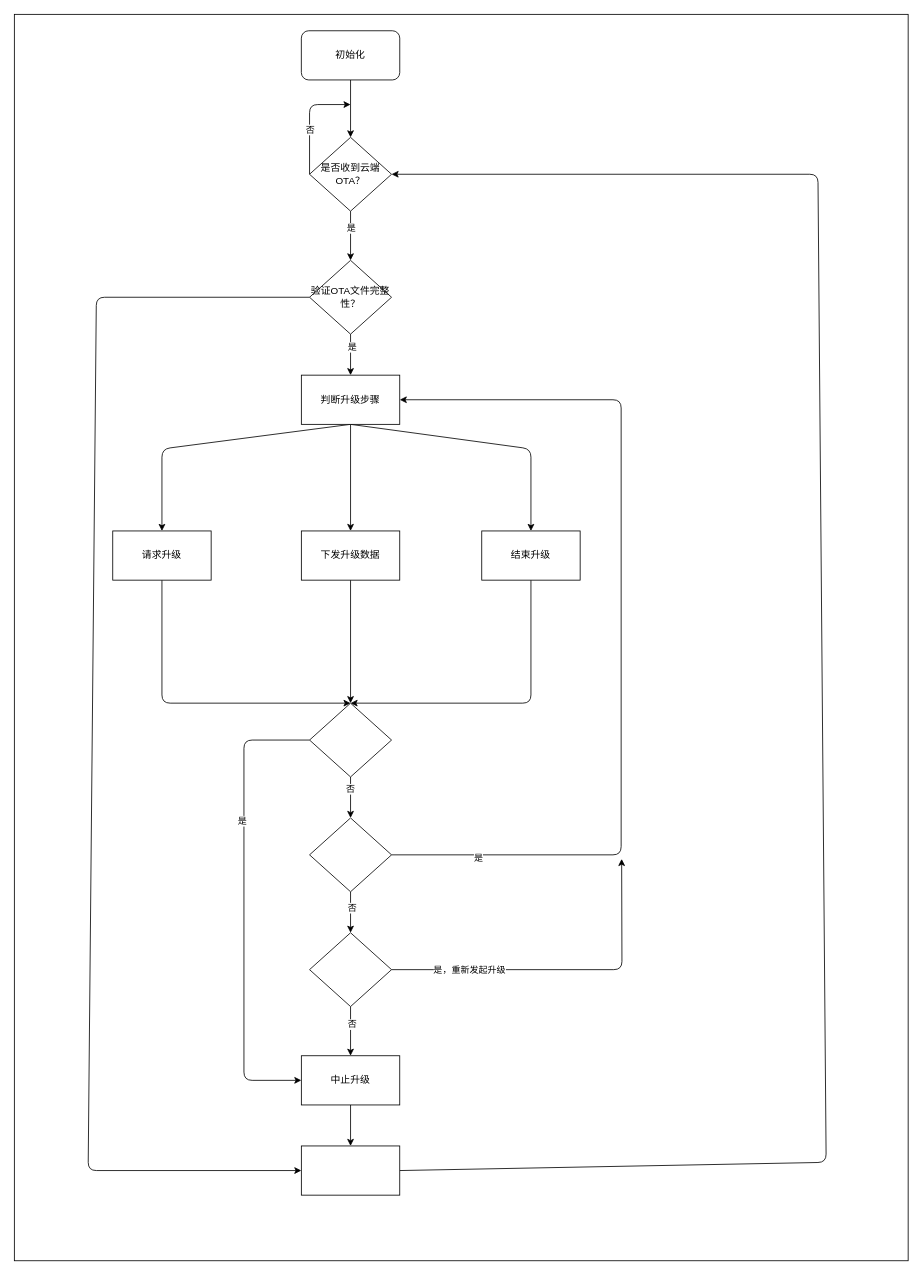
Image size: 923x1275. Some labels were removed from this diagram. The centre of each missing label's shape, as x and y in pixels:
上报云端升级结果: (350,1170)
判断5秒超时？: (350,739)
判断ACK？: (350,854)
判断NAK5或NAK7？: (350,969)
